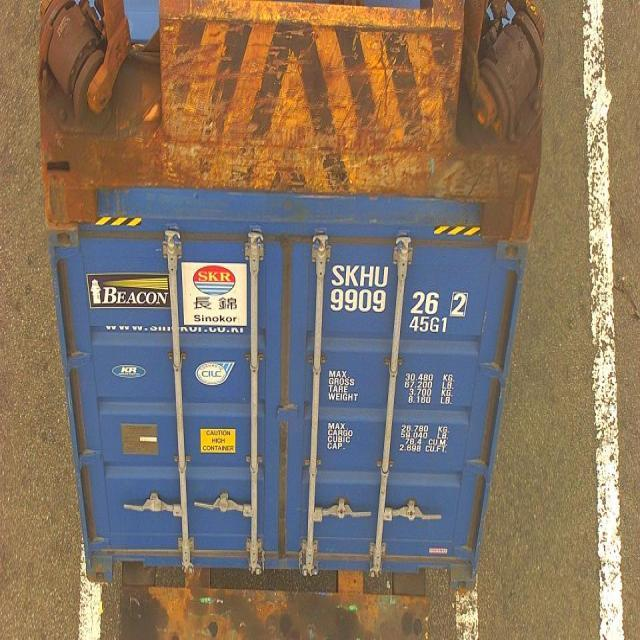ISO: (409, 315, 449, 335)
container_number: (332, 263, 474, 315)
